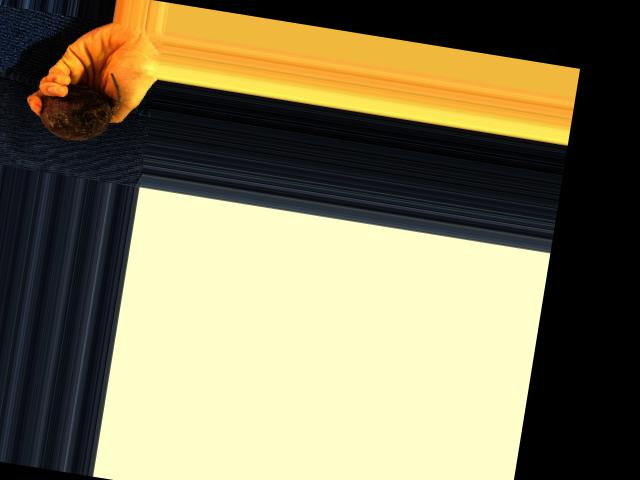beet: (36, 61, 125, 146)
